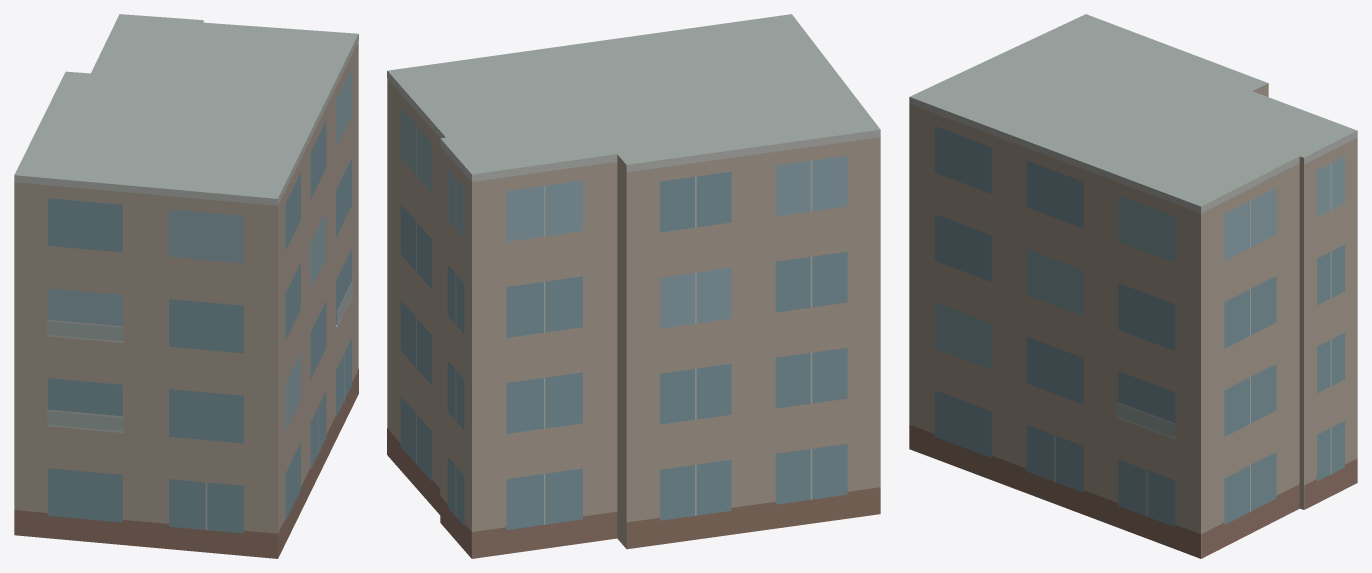
The model's file is survey-upis-32669098.glb.
The picture shows the model from 3 angles, left to right: view 1: azimuth 30°, elevation 25°; view 2: azimuth 150°, elevation 25°; view 3: azimuth 270°, elevation 25°; orthographic projection. The views are drawn at different scales.
Visible parts, largest first — view 1: survey-upis-32669098.tmp; view 2: survey-upis-32669098.tmp; view 3: survey-upis-32669098.tmp.
Part boxes in pixels (x1,y1,x2,y2): survey-upis-32669098.tmp: (14,14,358,558); survey-upis-32669098.tmp: (387,14,880,558); survey-upis-32669098.tmp: (909,14,1357,558).
Bounding box in the file's own units: 14.67 × 12.5 × 14.42.
